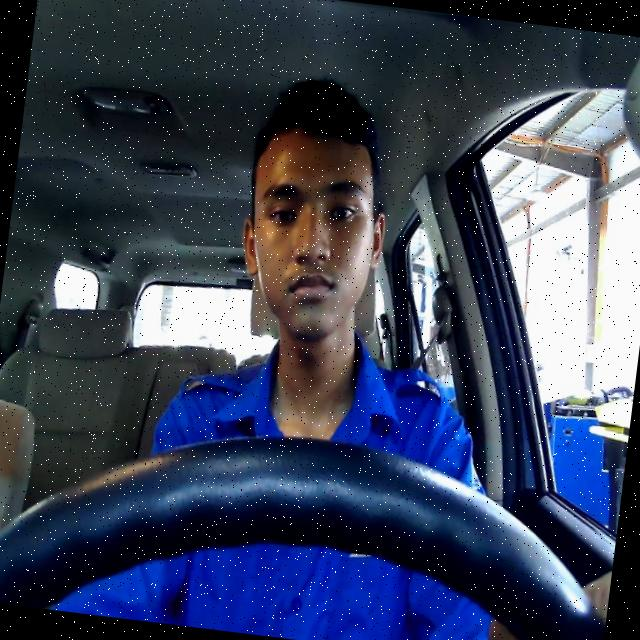focused: (230, 126, 397, 344)
